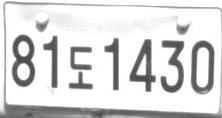0: (189, 40, 215, 94)
1: (100, 37, 126, 90), (40, 35, 65, 88)
3: (159, 40, 185, 93)
4: (129, 38, 156, 92)
8: (11, 33, 36, 88)
도: (69, 46, 93, 90)
